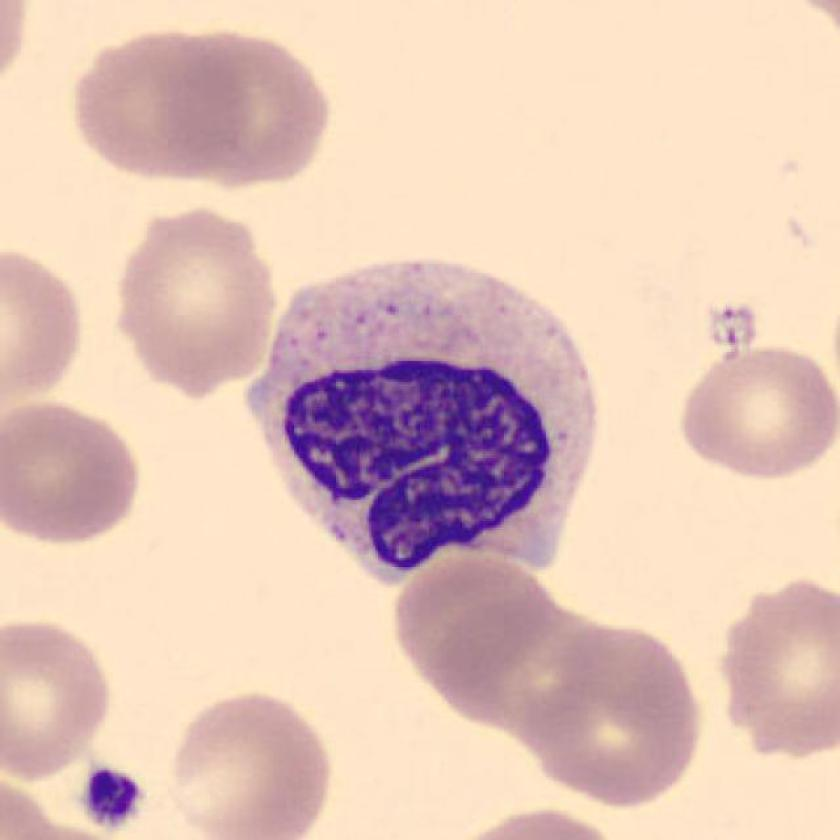neutrophil: (245, 261, 596, 592)
